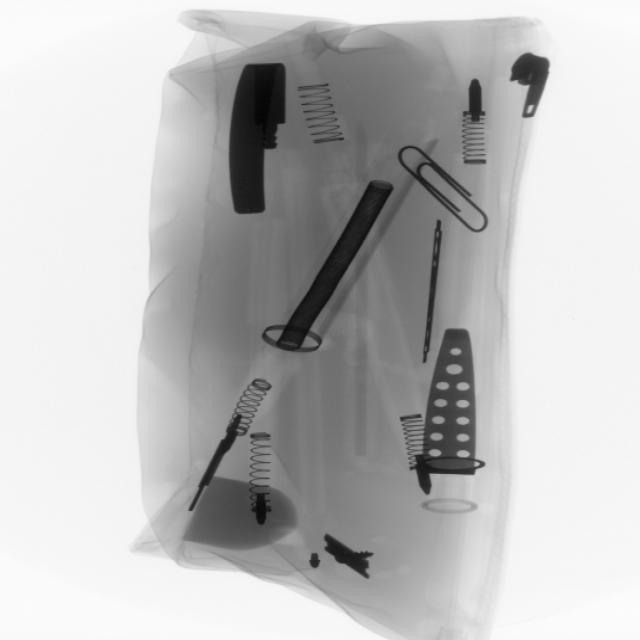SHURIKEN: (414, 216, 454, 371)
